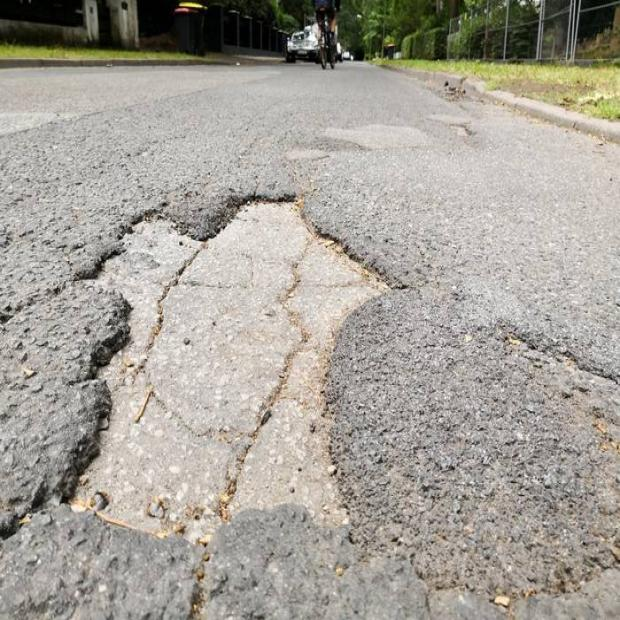lubang: (1, 203, 385, 543)
